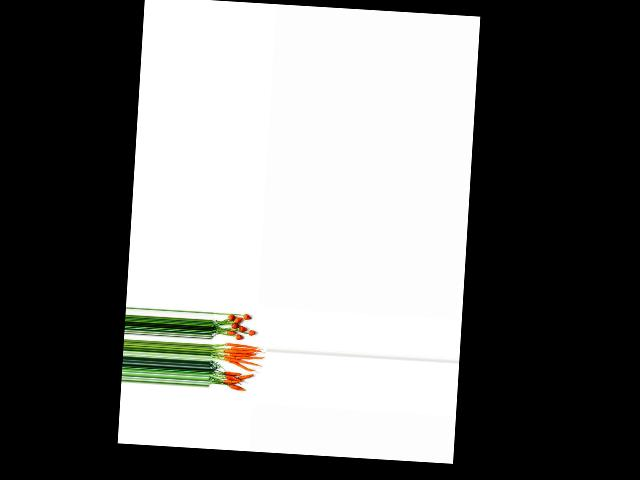carrot: (243, 313, 253, 322)
